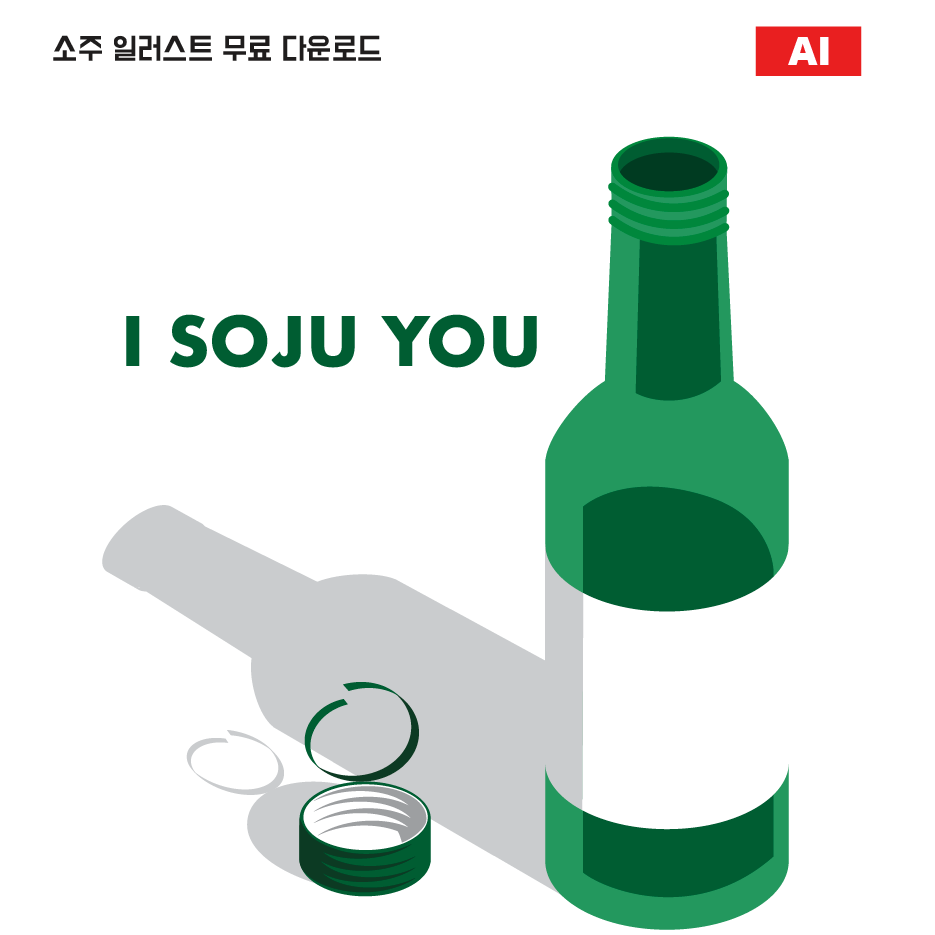soju: (537, 132, 803, 933)
